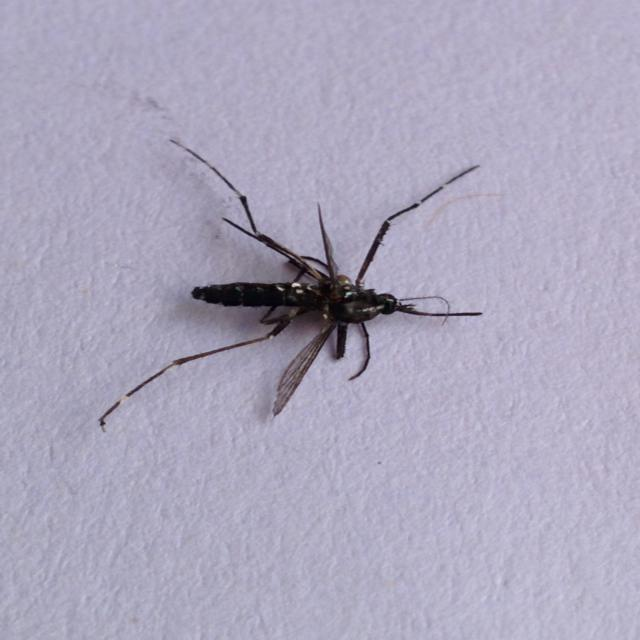albopictus: (97, 127, 496, 443)
